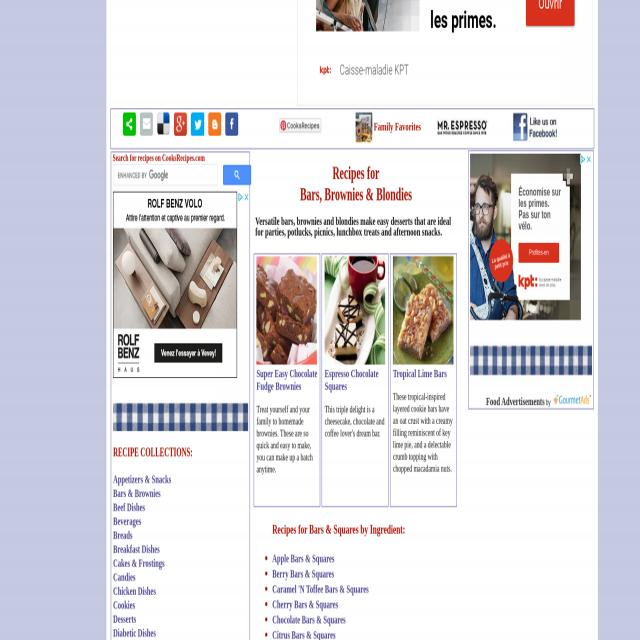button: (113, 190, 237, 379), (470, 154, 581, 320), (257, 254, 317, 363), (325, 254, 385, 363), (393, 254, 453, 363), (316, 0, 420, 32), (434, 111, 490, 140), (510, 110, 560, 140), (154, 343, 223, 362), (526, 0, 574, 27), (279, 111, 323, 137), (518, 243, 560, 263), (552, 390, 592, 403), (224, 166, 252, 184), (356, 111, 372, 140), (123, 111, 136, 136), (140, 113, 154, 136), (173, 113, 187, 135), (209, 112, 221, 136), (191, 113, 204, 135), (225, 113, 238, 135), (158, 114, 169, 135), (586, 153, 592, 167), (580, 153, 586, 165)
field: (114, 165, 217, 185)
